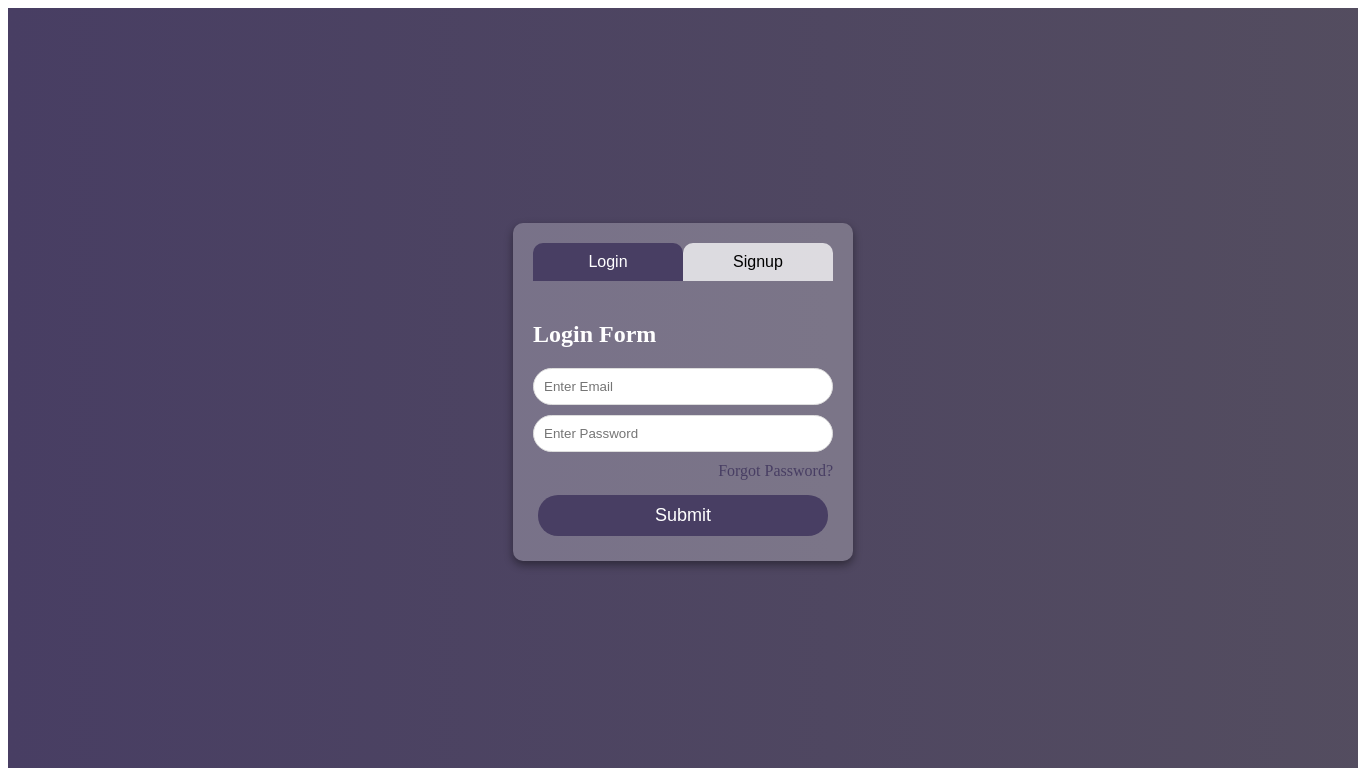
Test: AuthorizationForm Component › displays error when required fields are missing in signup
Click the button "Signup" at (758, 262), box [683,243,833,281]
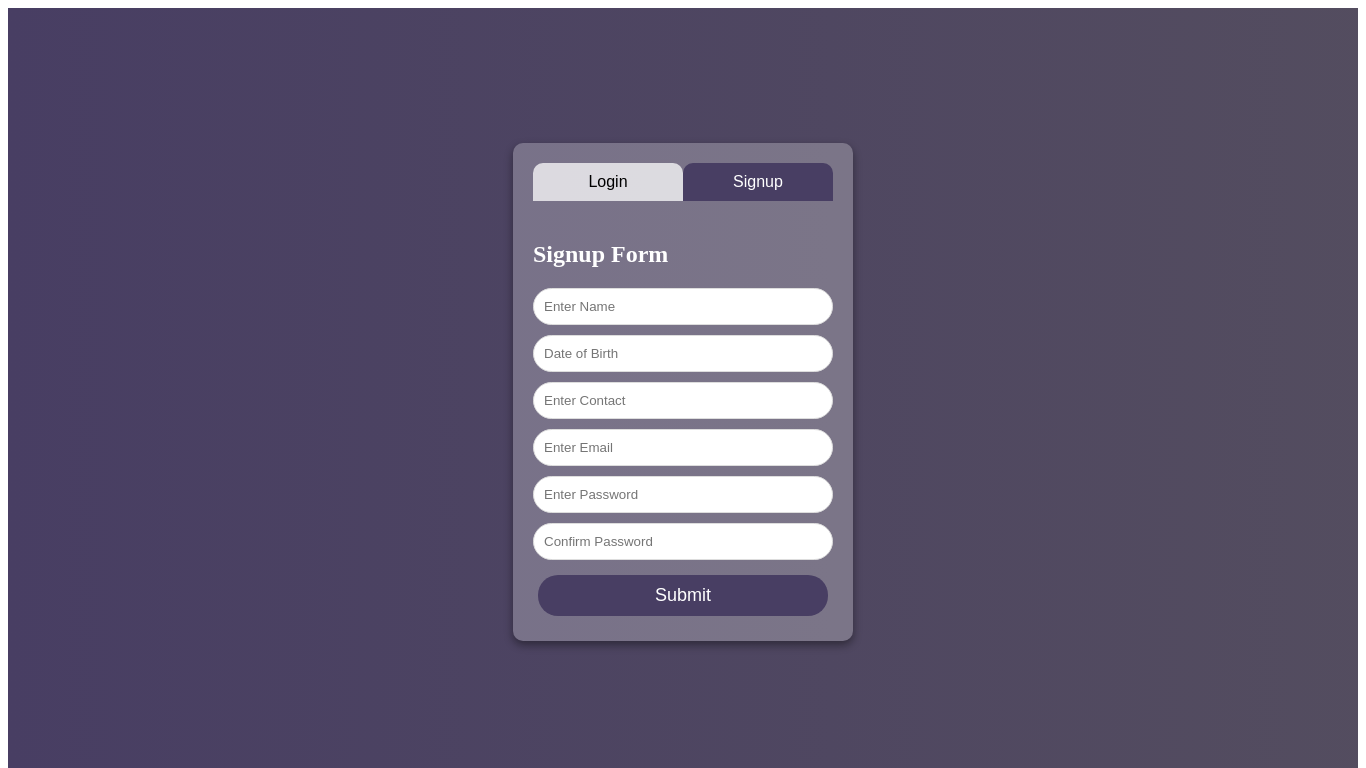
Click the button "Submit" at (683, 596), box [538,575,828,616]
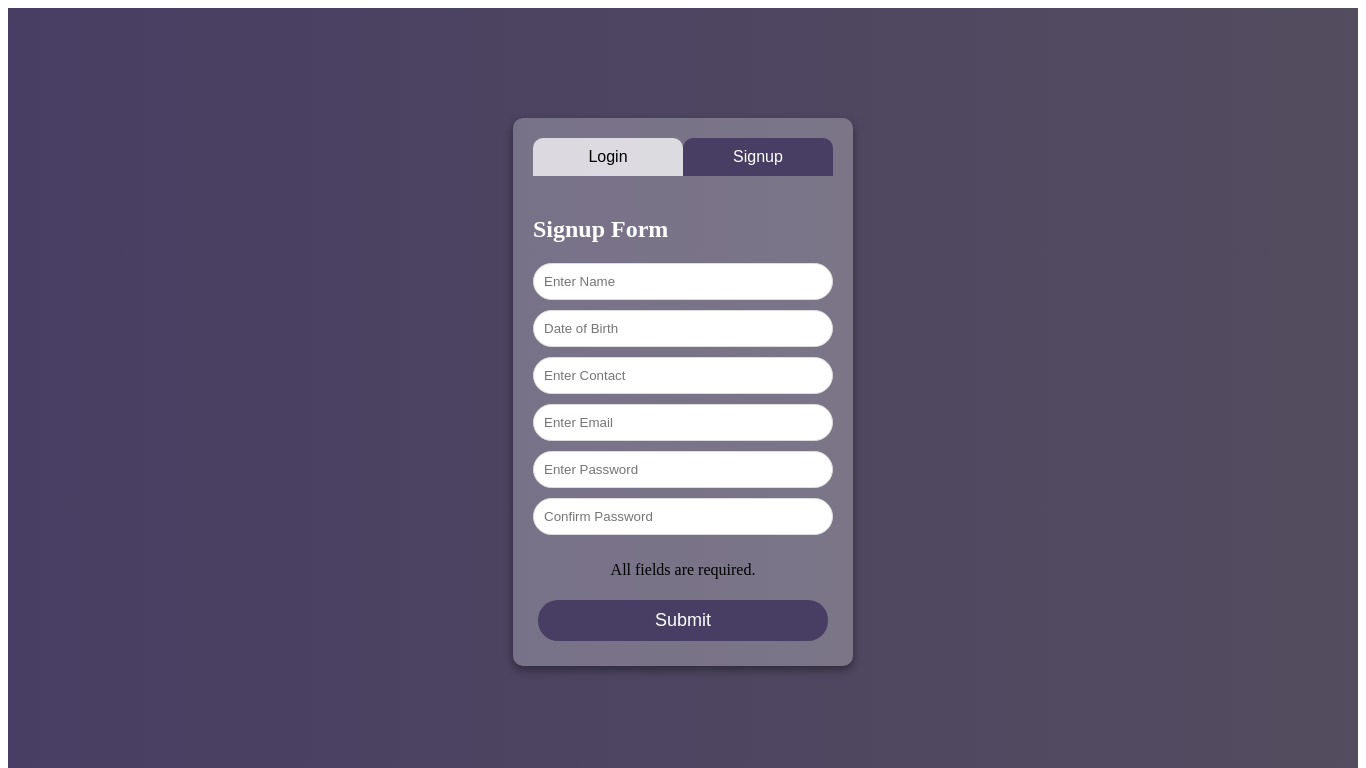
Check: the text "All fields are required." is shown, box [611,561,755,578]
